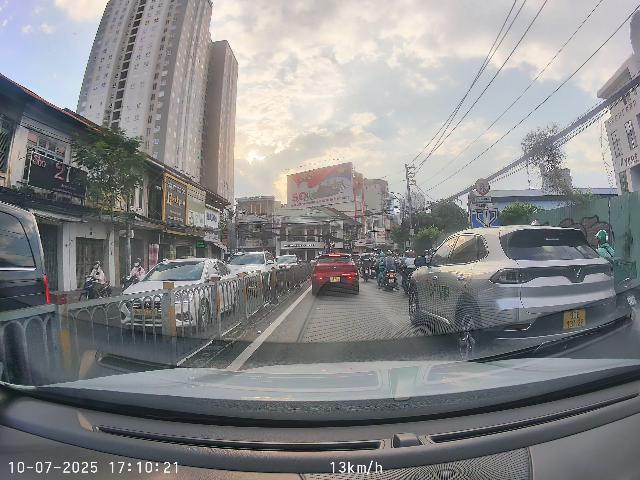124b-cam-oto-quay-dau-xe: (475, 178, 490, 194)
